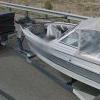Boat: (20, 12, 100, 93)
